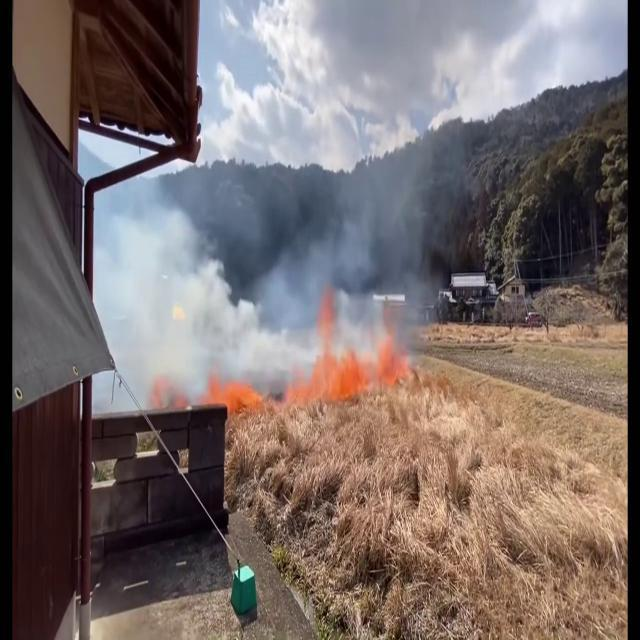Fire: (200, 309, 409, 415)
Smoke: (73, 144, 461, 390)
